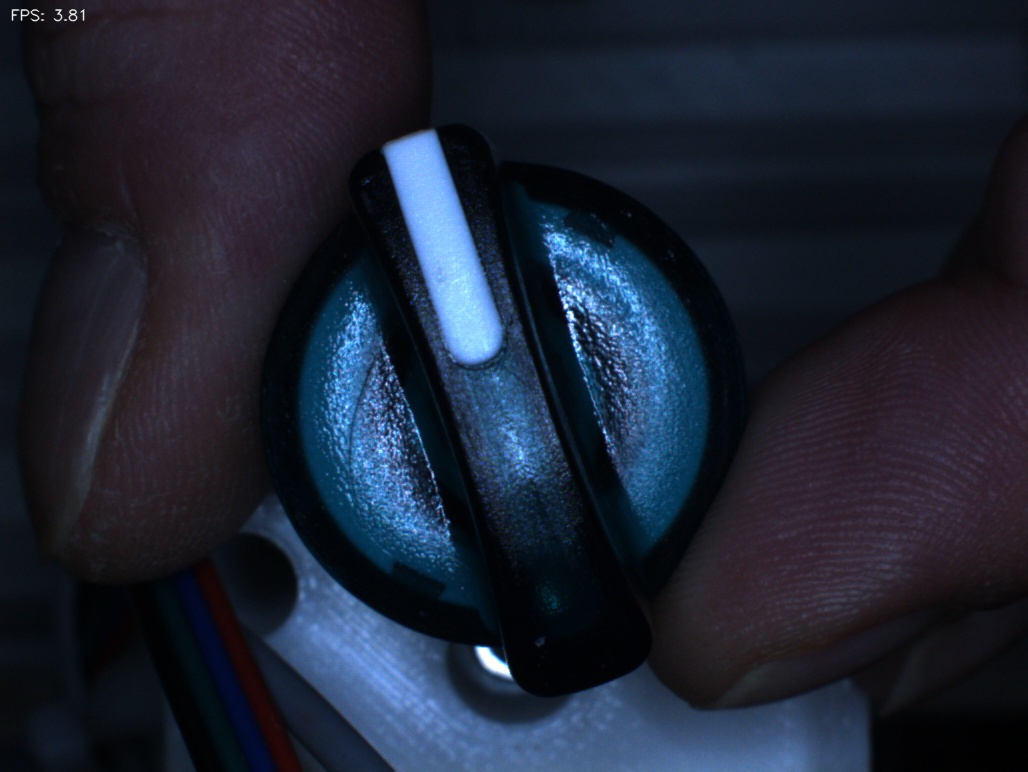PointNoir: (406, 242, 476, 312)
